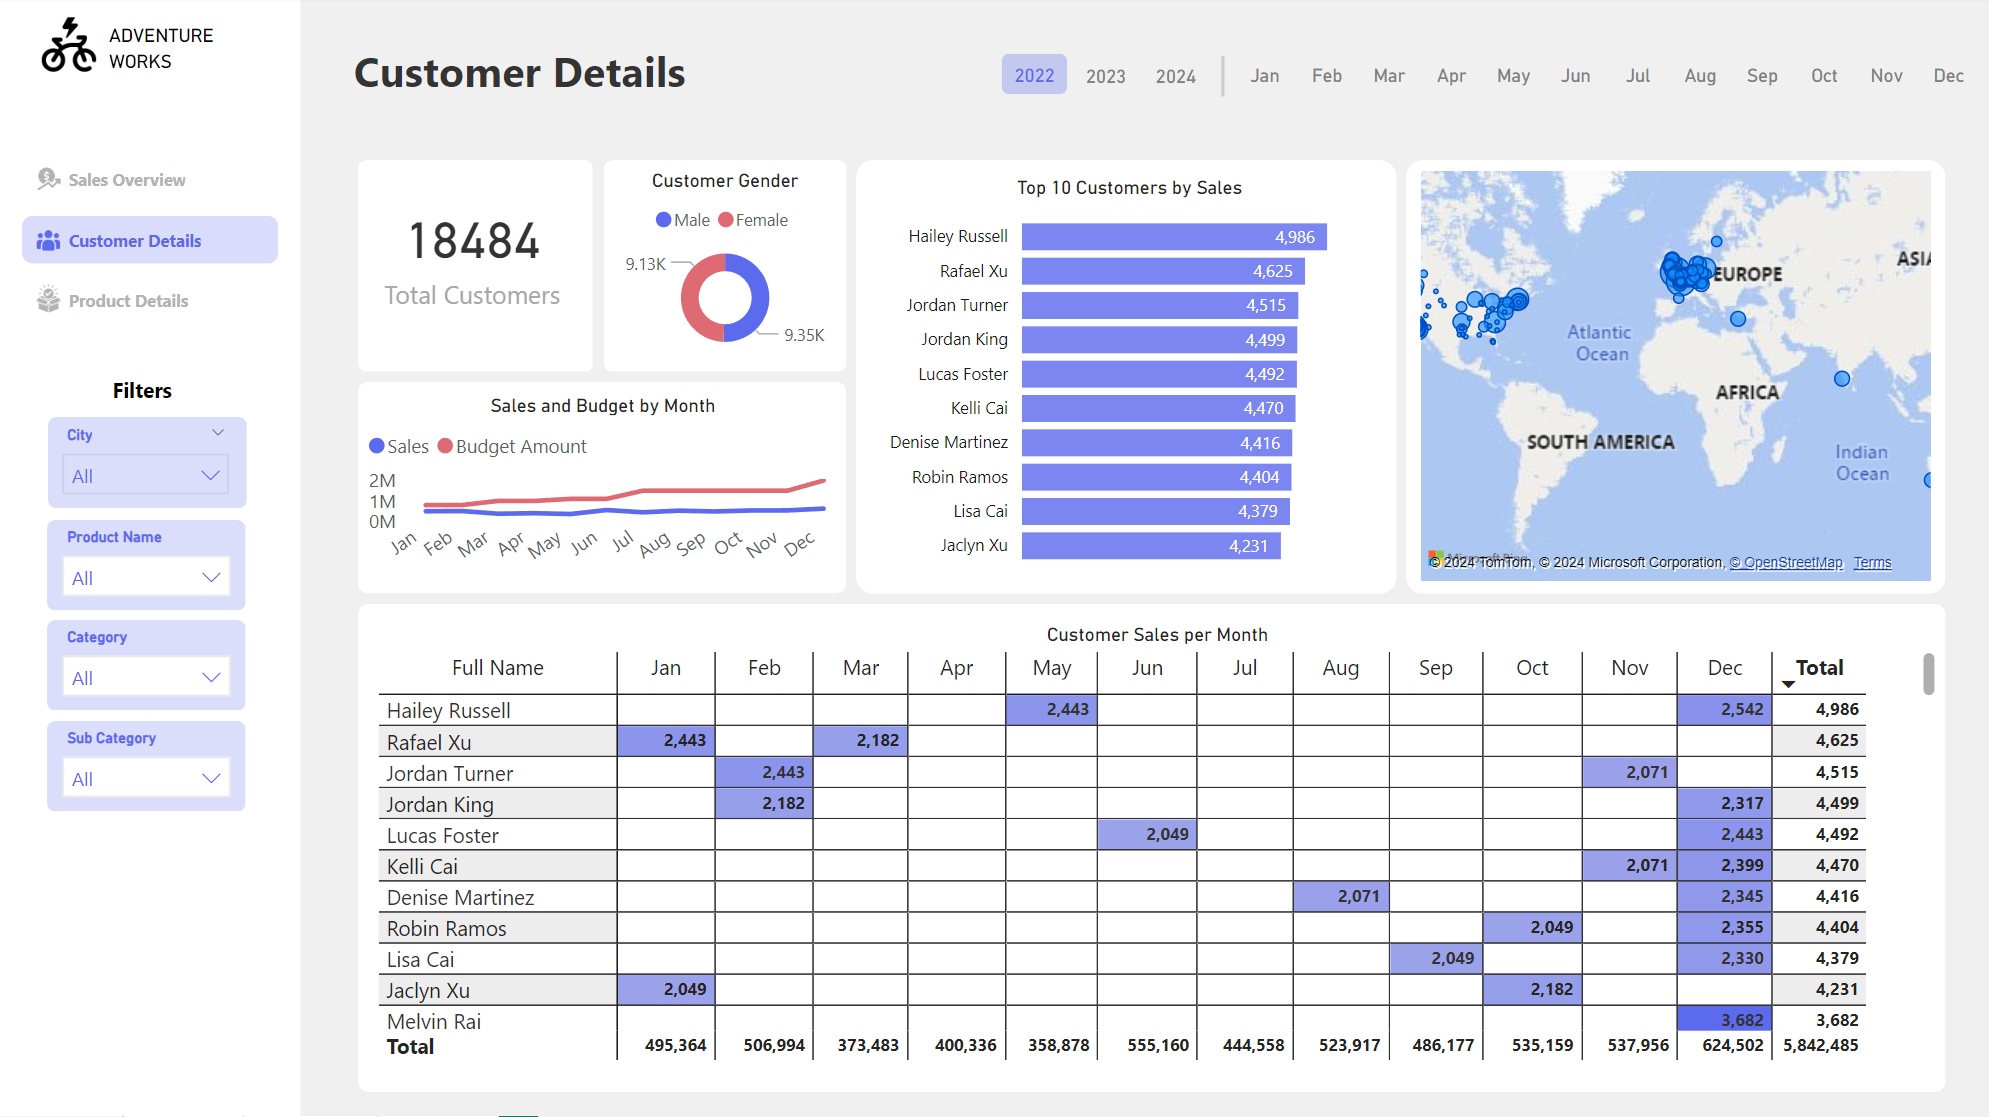

The page's visual inventory and layout, read from the dashboard file:
{"tool":"powerbi","page":{"name":"Customer Details ","canvas":[1280,720],"ordinal":1},"visuals":[{"type":"shape","box":[389,105.1,156,136.4],"z":0},{"type":"shape","box":[231.1,248,314,135.8],"z":1000},{"type":"shape","box":[551.6,105.1,347.9,279.4],"z":2000},{"type":"shape","box":[231.1,390.3,1021.5,314],"z":2500},{"type":"shape","box":[905.3,105.1,347.3,279.4],"z":3000},{"type":"BBED0A4D4D8D44CE93CF2DAFADEE466C","fields":{"actual":["FACT_InternetSales_CSV.Sales"],"target1":["FACT_Budget.Budget Amount"],"target2":["FACT_Budget.Sales - Budget"]},"box":[554.9,231.2,12.3,12.3],"z":4000},{"type":"shape","box":[231.1,105.1,151.4,136.4],"z":5000},{"type":"lineChart","title":"Sales and Budget by Month","fields":{"Category":["DIM_Calendar_CSV.MonthShort"],"Y":["Key Measures.Sales","Key Measures.Budget Amount"]},"box":[232.4,255.9,312.7,125.3],"z":7000},{"type":"barChart","title":"Top 10 Customers by Sales","fields":{"Y":["Key Measures.Sales"],"Category":["DIM_Customers_CSV.FullName"]},"box":[557.4,107,337.5,274.1],"z":8000},{"type":"donutChart","title":"Customer Gender","fields":{"Y":["CountNonNull(DIM_Customers_CSV.Gender)"],"Category":["DIM_Customers_CSV.Gender"]},"box":[392.9,111.6,148.2,124],"z":10000},{"type":"pivotTable","title":"Customer Sales per Month","fields":{"Rows":["DIM_Customers_CSV.FullName"],"Values":["Key Measures.Sales"],"Columns":["DIM_Calendar_CSV.MonthShort"]},"box":[232.4,391,1014.3,309.4],"z":11000},{"type":"map","title":"Customers by City","fields":{"Category":["DIM_Customers_CSV.CustomerCity"],"Size":["CountNonNull(DIM_Customers_CSV.CustomerKey)"]},"box":[909.9,107,338.1,274.1],"z":12000},{"type":"advanceCardE03760C5AB684758B56AA29F9E6C257B","fields":{"mainMeasure":["CountNonNull(DIM_Customers_CSV.CustomerKey)"]},"box":[227.2,113,155.2,110],"z":13000},{"type":"shape","box":[0,0,193.9,720],"z":14000},{"type":"shape","box":[31.1,466.1,127.8,58.4],"z":15000},{"type":"shape","box":[31.1,401,127.8,58.4],"z":16000},{"type":"shape","box":[31.1,336.5,127.8,58.4],"z":17000},{"type":"slicer","fields":{"Values":["DIM_Customers_CSV.CustomerCity"]},"box":[31.1,270.7,127.2,58.4],"z":18000},{"type":"slicer","fields":{"Values":["DIM_Products_CSV.SubCategory"]},"box":[30.9,466,127.6,50],"z":19000},{"type":"slicer","fields":{"Values":["DIM_Products_CSV.ProductCategory"]},"box":[30.9,401.2,127.6,50],"z":20000},{"type":"slicer","fields":{"Values":["DIM_Products_CSV.ProductName"]},"box":[30.9,336.3,127.6,50],"z":21000},{"type":"textbox","box":[24.9,238.8,133.9,38.7],"z":22000},{"type":"pageNavigator","box":[14.7,101.6,165.3,111.8],"z":23000},{"type":"image","box":[17.2,178.4,29.5,31.3],"z":26000},{"type":"image","box":[22.4,7.2,44.8,47.2],"z":27000},{"type":"textbox","box":[65.6,9.6,107.2,51.2],"z":28000},{"type":"textbox","box":[223.2,24,349.6,60],"z":29000},{"type":"advancedSlicerVisual","fields":{"Values":["DIM_Calendar_CSV.MonthShort"]},"box":[790.4,31,489.6,36.8],"z":30000},{"type":"advancedSlicerVisual","fields":{"Values":["DIM_Calendar_CSV.Year"]},"box":[640,31.8,142.4,36.8],"z":31000},{"type":"shape","box":[763.2,38.2,48.8,26.4],"z":32000},{"type":"image","box":[19.6,144.3,25.5,25.5],"z":32001},{"type":"image","box":[18.9,104.4,26.8,24.8],"z":32002},{"type":"shape","box":[31.3,270.2,127.9,58.7],"z":32003}]}

Visuals, with their boxes on the page's 1280x720 design canvas (x1, y1, x2, y2). These are canvas units, not pixel positions in the 1989x1117 screenshot, which may show the page scaled, cropped or inside an application window:
shape: 389, 105, 545, 242
shape: 231, 248, 545, 384
shape: 552, 105, 900, 384
shape: 231, 390, 1253, 704
shape: 905, 105, 1253, 384
BBED0A4D4D8D44CE93CF2DAFADEE466C - FACT_InternetSales_CSV.Sales x FACT_Budget.Budget Amount: 555, 231, 567, 244
shape: 231, 105, 382, 242
"Sales and Budget by Month" lineChart: 232, 256, 545, 381
"Top 10 Customers by Sales" barChart: 557, 107, 895, 381
"Customer Gender" donutChart: 393, 112, 541, 236
"Customer Sales per Month" pivotTable: 232, 391, 1247, 700
"Customers by City" map: 910, 107, 1248, 381
advanceCardE03760C5AB684758B56AA29F9E6C257B - CountNonNull(DIM_Customers_CSV.CustomerKey): 227, 113, 382, 223
shape: 0, 0, 194, 720
shape: 31, 466, 159, 524
shape: 31, 401, 159, 459
shape: 31, 336, 159, 395
slicer - DIM_Customers_CSV.CustomerCity: 31, 271, 158, 329
slicer - DIM_Products_CSV.SubCategory: 31, 466, 158, 516
slicer - DIM_Products_CSV.ProductCategory: 31, 401, 158, 451
slicer - DIM_Products_CSV.ProductName: 31, 336, 158, 386
textbox: 25, 239, 159, 278
pageNavigator: 15, 102, 180, 213
image: 17, 178, 47, 210
image: 22, 7, 67, 54
textbox: 66, 10, 173, 61
textbox: 223, 24, 573, 84
advancedSlicerVisual - DIM_Calendar_CSV.MonthShort: 790, 31, 1280, 68
advancedSlicerVisual - DIM_Calendar_CSV.Year: 640, 32, 782, 69
shape: 763, 38, 812, 65
image: 20, 144, 45, 170
image: 19, 104, 46, 129
shape: 31, 270, 159, 329
